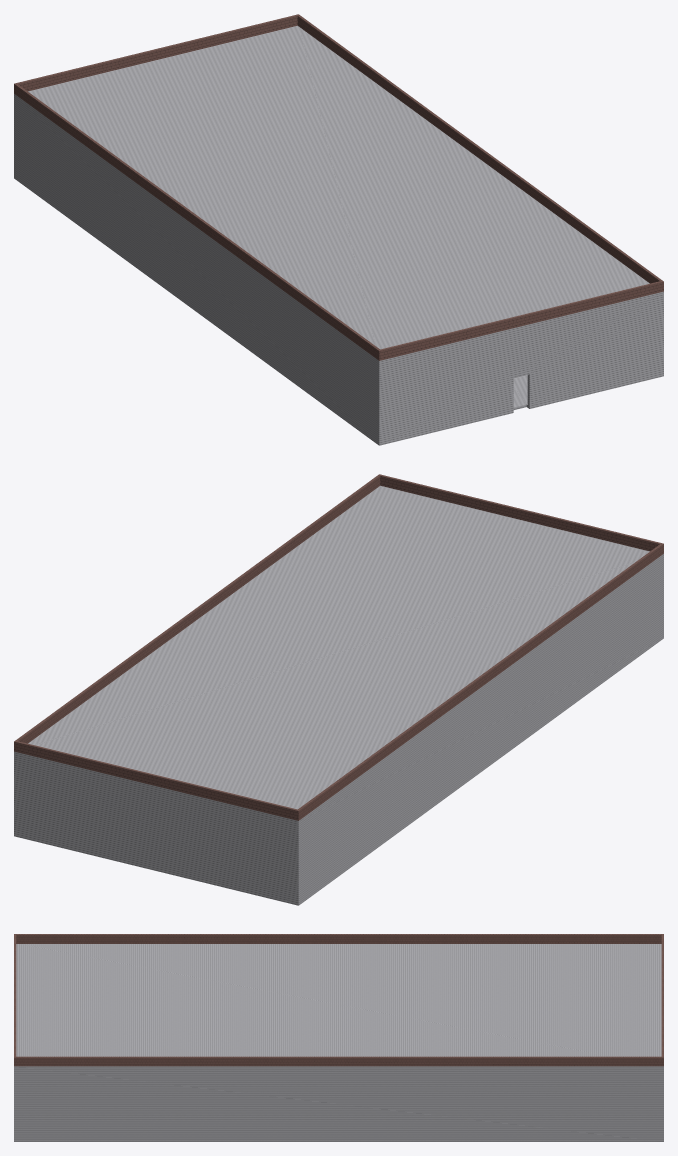
File: warehouse.glb
3 views of the same model, one above another, from view 1: azimuth 30°, elevation 25°; view 2: azimuth 150°, elevation 25°; view 3: azimuth 270°, elevation 25° (orthographic). The views are drawn at different scales.
Parts seen in each view (by area): view 1: warehouse-col; view 2: warehouse-col; view 3: warehouse-col.
Boxes of the visible parts, x1,y1,x2,y2 form: warehouse-col: (14, 14, 663, 445); warehouse-col: (14, 474, 663, 905); warehouse-col: (14, 934, 663, 1141).
Size of the model in its own units: 18 by 5.72 by 40.
2 materials, 2 textured.
